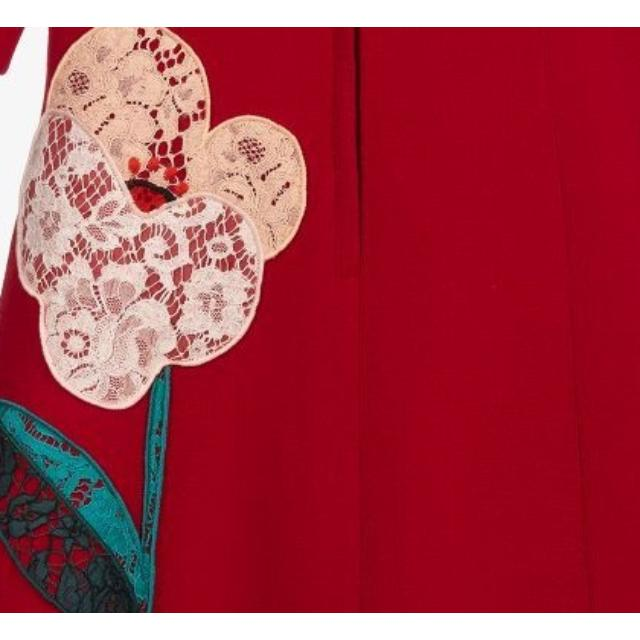wool: (0, 27, 640, 613)
